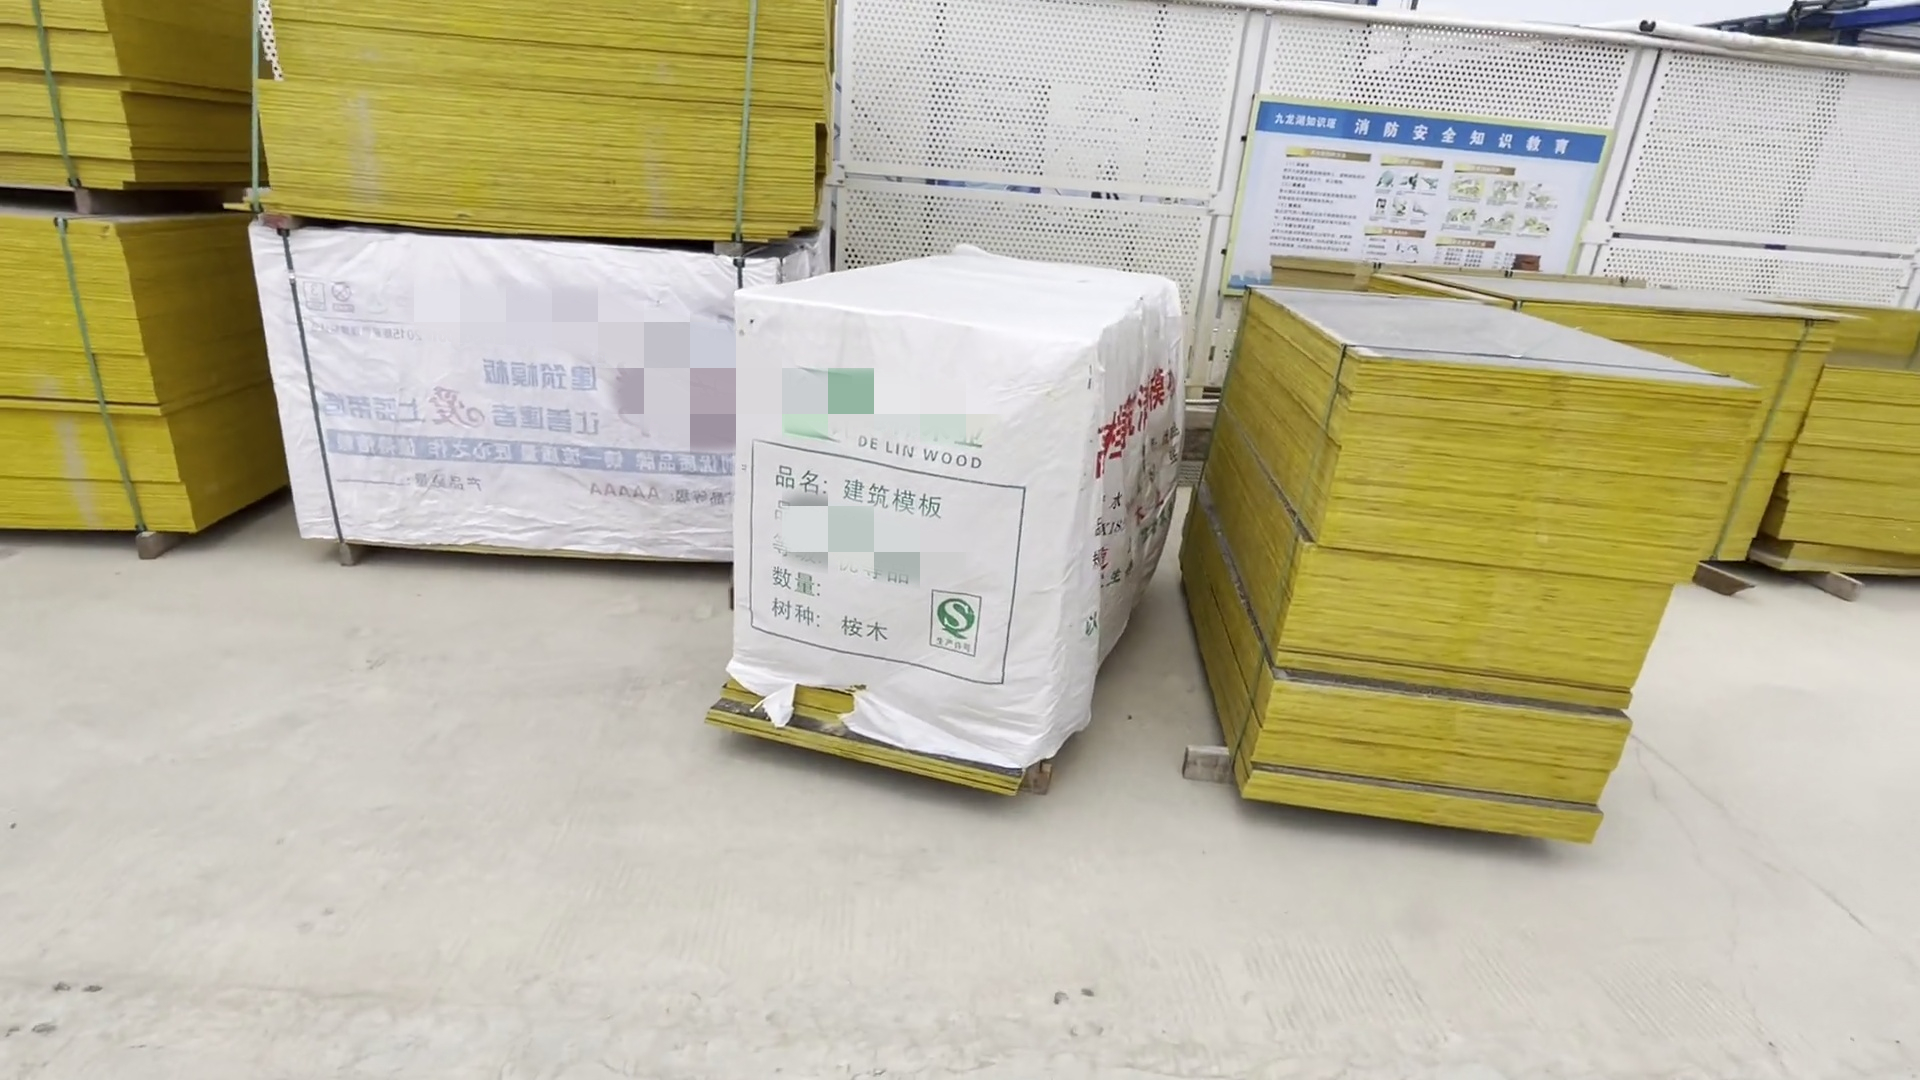board: (1199, 287, 1764, 872), (225, 9, 806, 249)
